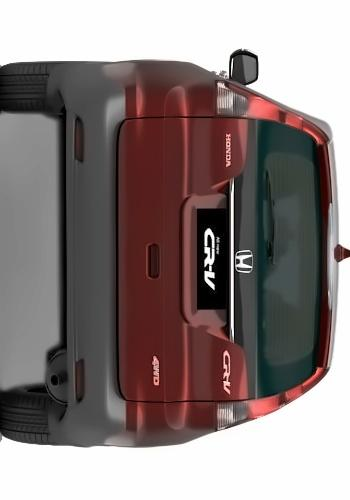Car boot: (112, 115, 345, 407)
Rear bumper: (32, 59, 142, 455)
Rear light - -L-: (217, 76, 334, 146)
Rear light - -R-: (216, 367, 328, 439)
Side mirror - -L-: (225, 48, 259, 90)
